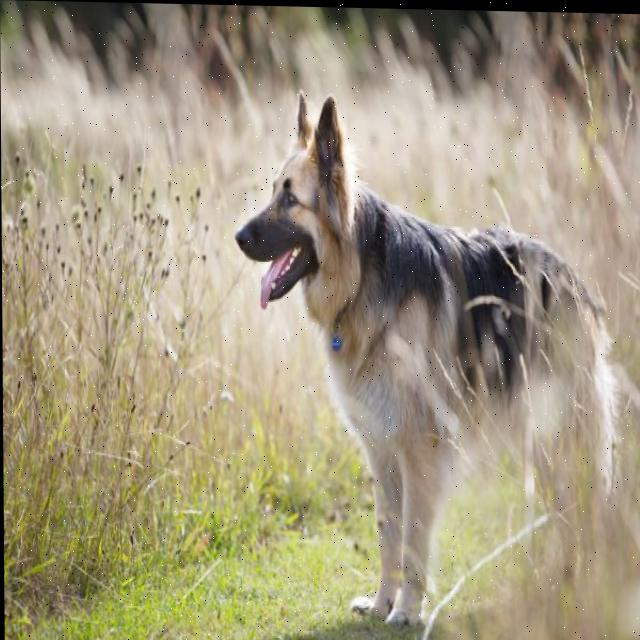GERMAN_SHEPHERD: (237, 77, 629, 640)
